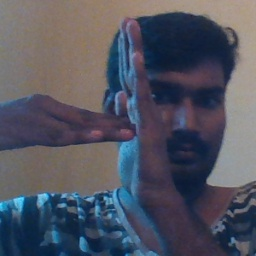Z: (39, 15, 175, 199)
